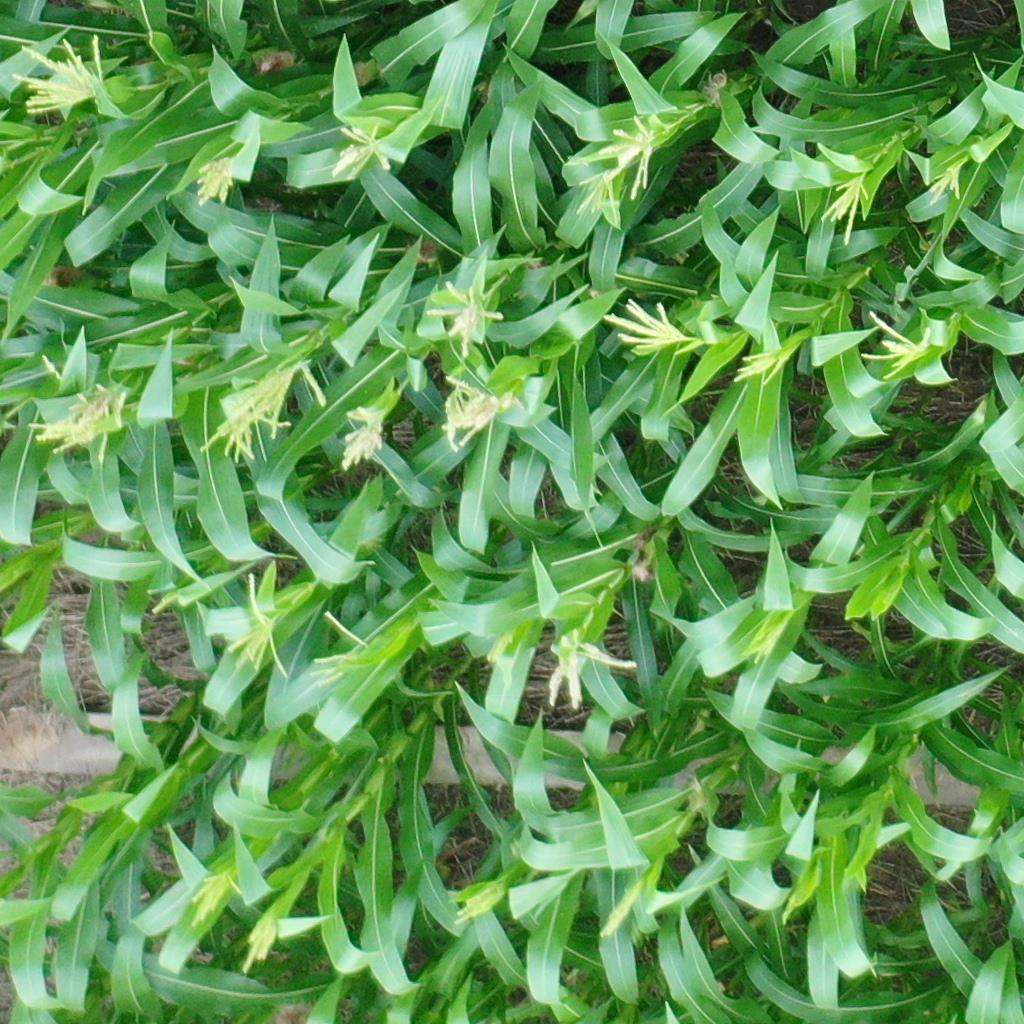Tassel: (199, 361, 327, 464), (10, 33, 108, 114), (546, 629, 639, 712), (30, 387, 127, 464), (225, 571, 291, 683), (426, 277, 504, 358), (441, 373, 507, 455), (600, 114, 660, 200), (603, 294, 693, 351), (862, 309, 932, 381), (817, 169, 872, 246), (328, 124, 395, 179), (189, 867, 243, 927), (338, 406, 385, 474), (577, 167, 626, 227), (599, 879, 647, 936), (242, 917, 282, 977), (194, 158, 239, 209), (926, 156, 971, 205), (734, 347, 790, 385), (455, 886, 502, 930), (310, 648, 345, 686), (747, 627, 779, 662), (487, 633, 512, 662)
